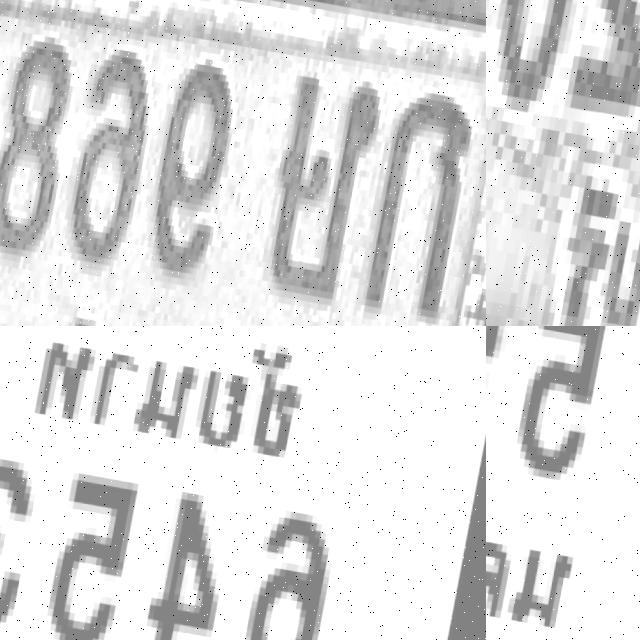license-plate: (0, 0, 486, 326), (0, 326, 486, 640), (486, 0, 640, 326), (486, 326, 640, 640)
